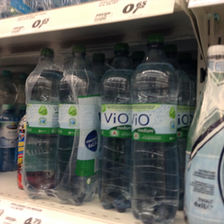water: (129, 33, 180, 222), (57, 45, 98, 206), (95, 42, 132, 210), (24, 47, 60, 202)
